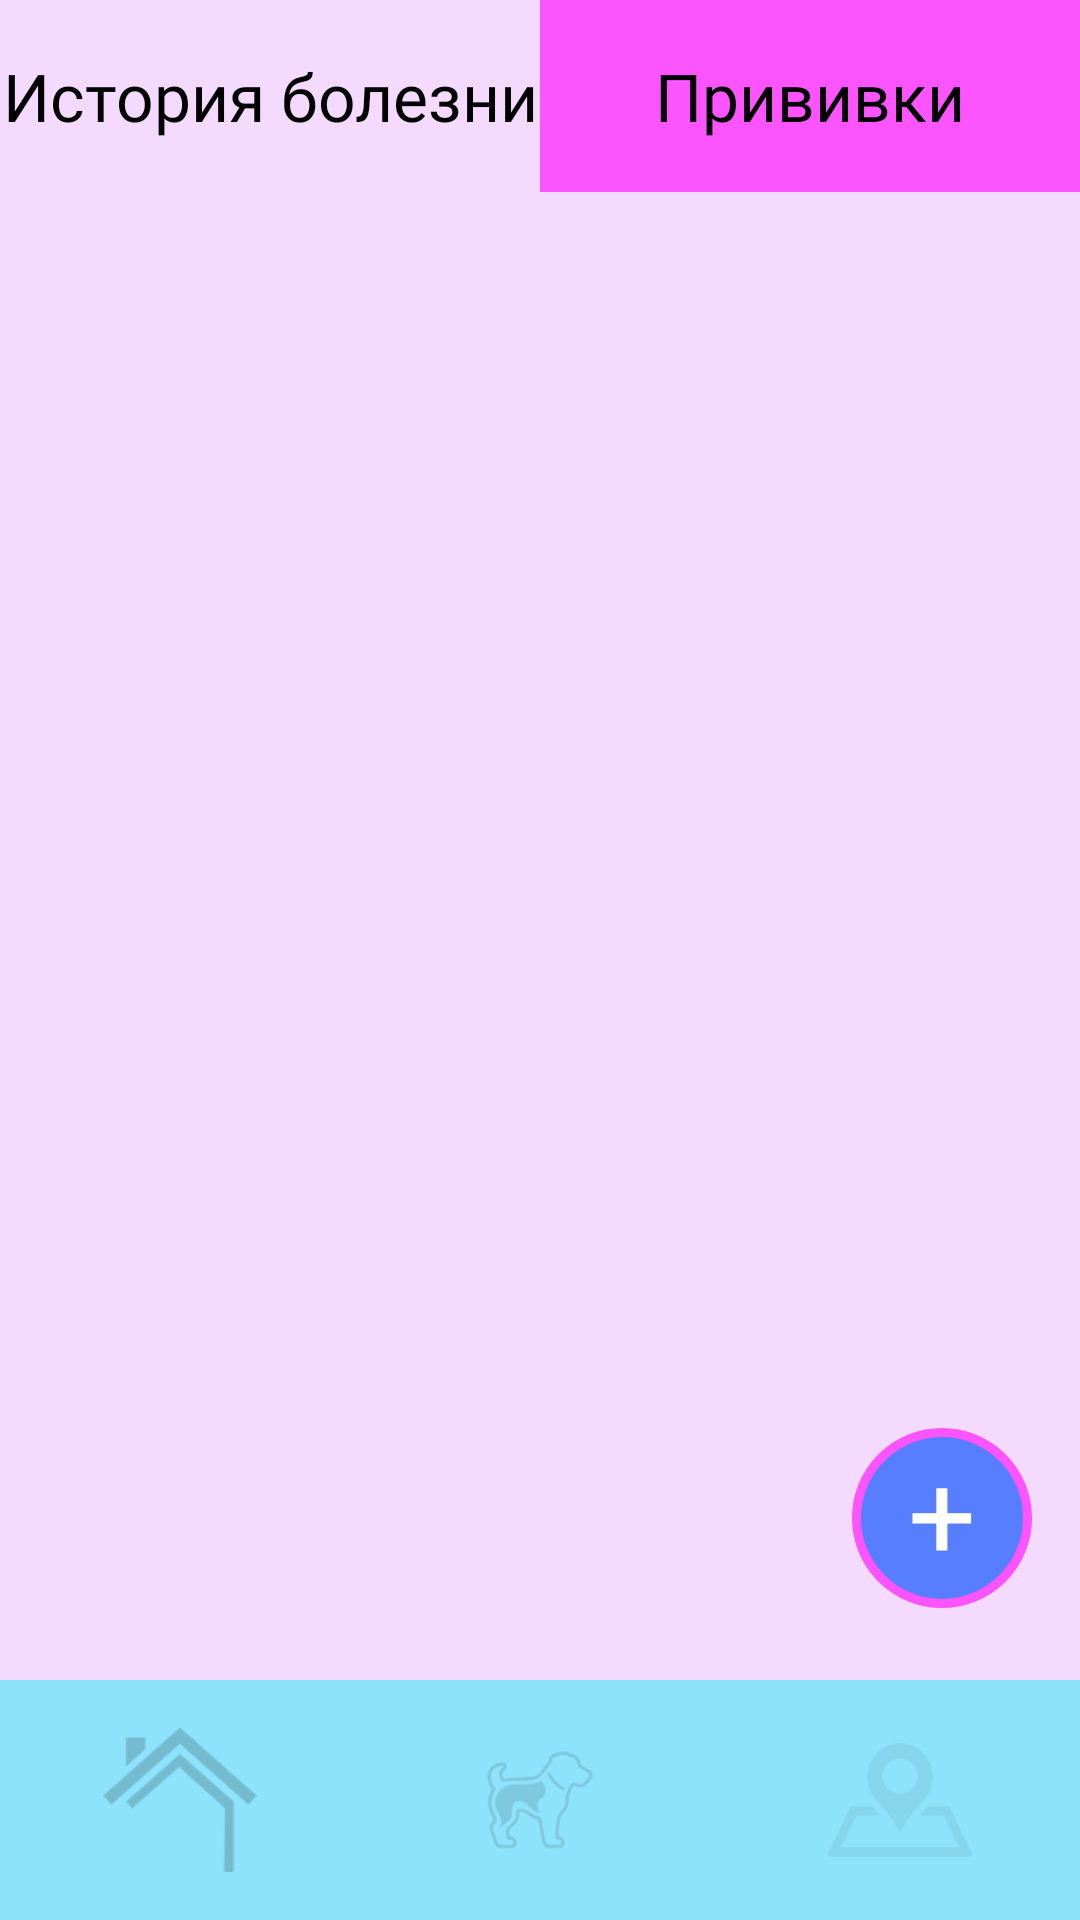

Icons on this 1080px x 1920px Android screen, each with the point to tap as (x,y):
home: (179,1800)
